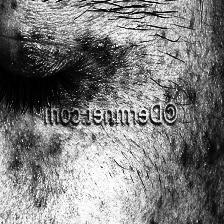Non-Cancerous Skin Condition: (0, 0, 224, 106), (0, 136, 224, 224)
